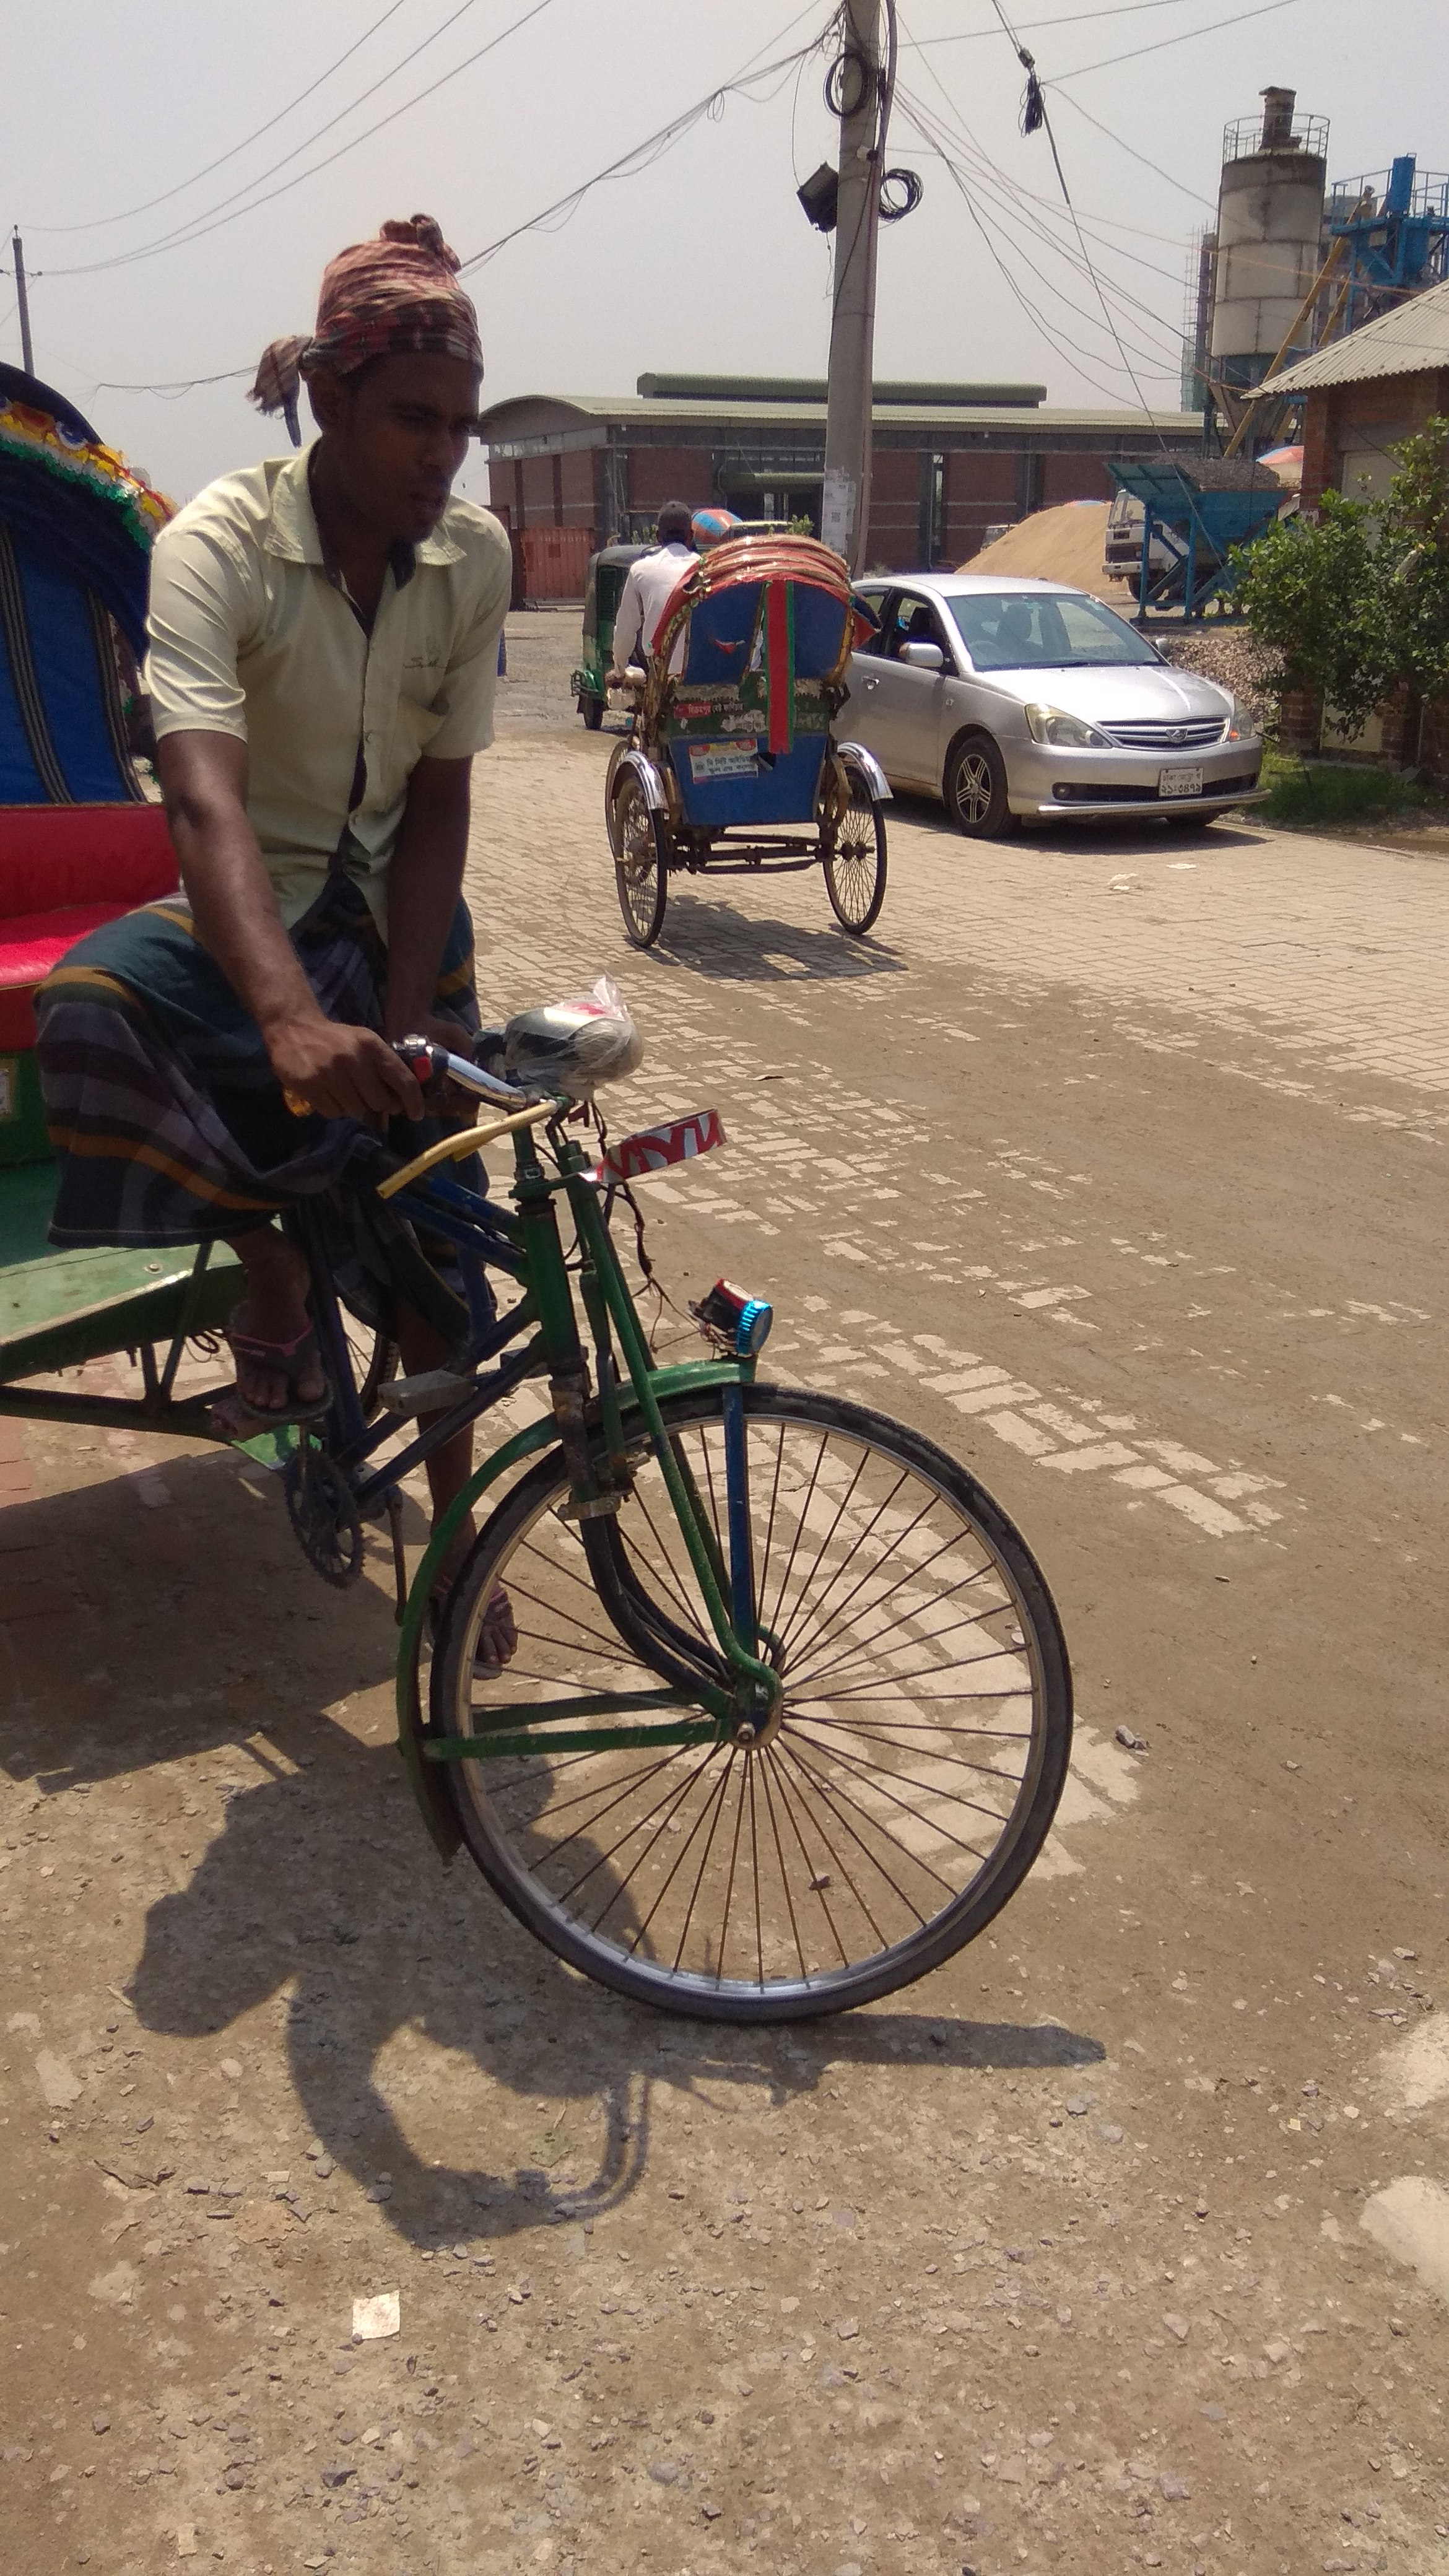Rickshaw: (4, 193, 1070, 2026), (600, 485, 899, 968)
